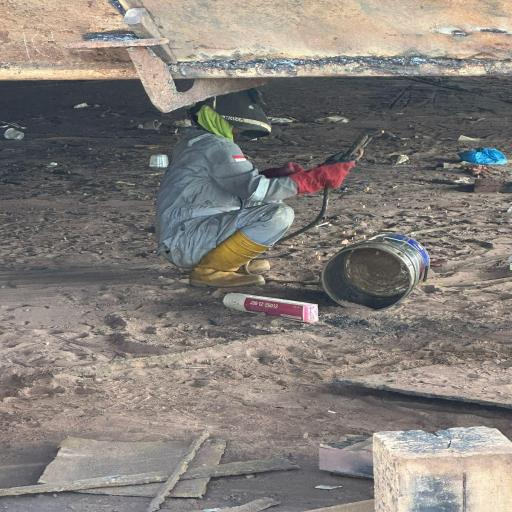safety_shoe: (191, 234, 264, 289)
